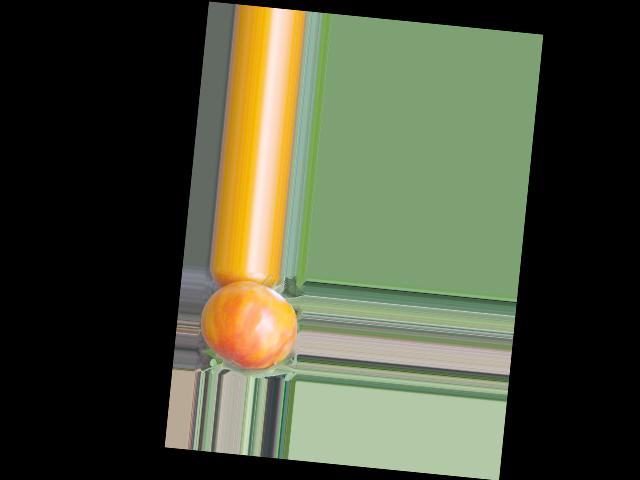tomato: (196, 277, 301, 372)
